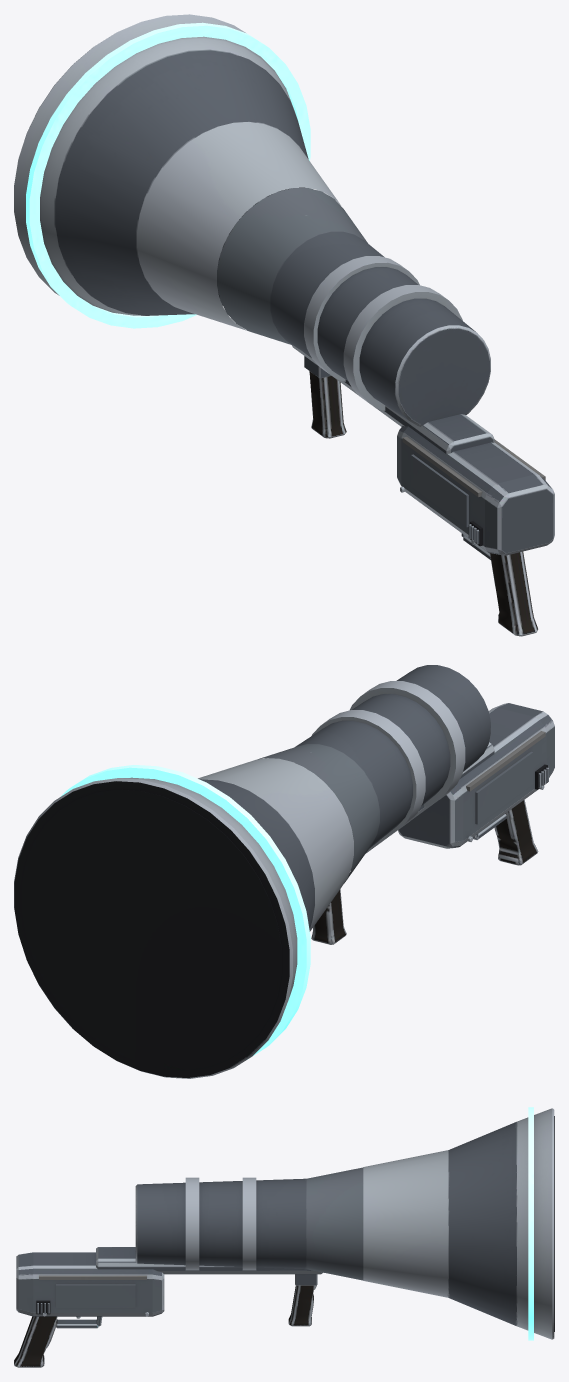
3 views of the same model, one above another, from view 1: azimuth 30°, elevation 25°; view 2: azimuth 150°, elevation 25°; view 3: azimuth 270°, elevation 25° (orthographic). The views are drawn at different scales.
Visible parts, largest first — view 1: body; view 2: body; view 3: body.
Boxes of the visible parts, left/top/right/bottom form: body: left=14, top=14, right=554, bottom=636; body: left=14, top=665, right=554, bottom=1078; body: left=14, top=1107, right=554, bottom=1367.
Size of the model in its own units: 0.4084 by 0.4752 by 0.951.
Materials: 1 (1 with a texture image).
